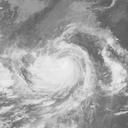cyclone: (27, 42, 93, 97)
